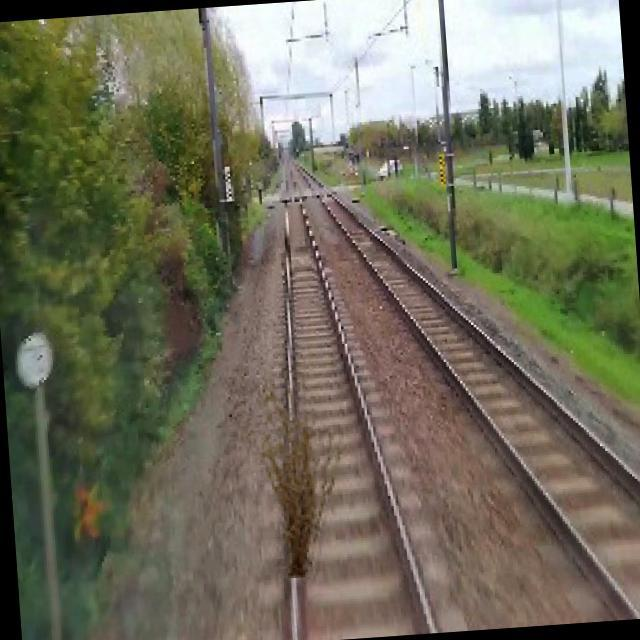danger: (249, 385, 341, 583)
rail: (255, 159, 479, 640)
